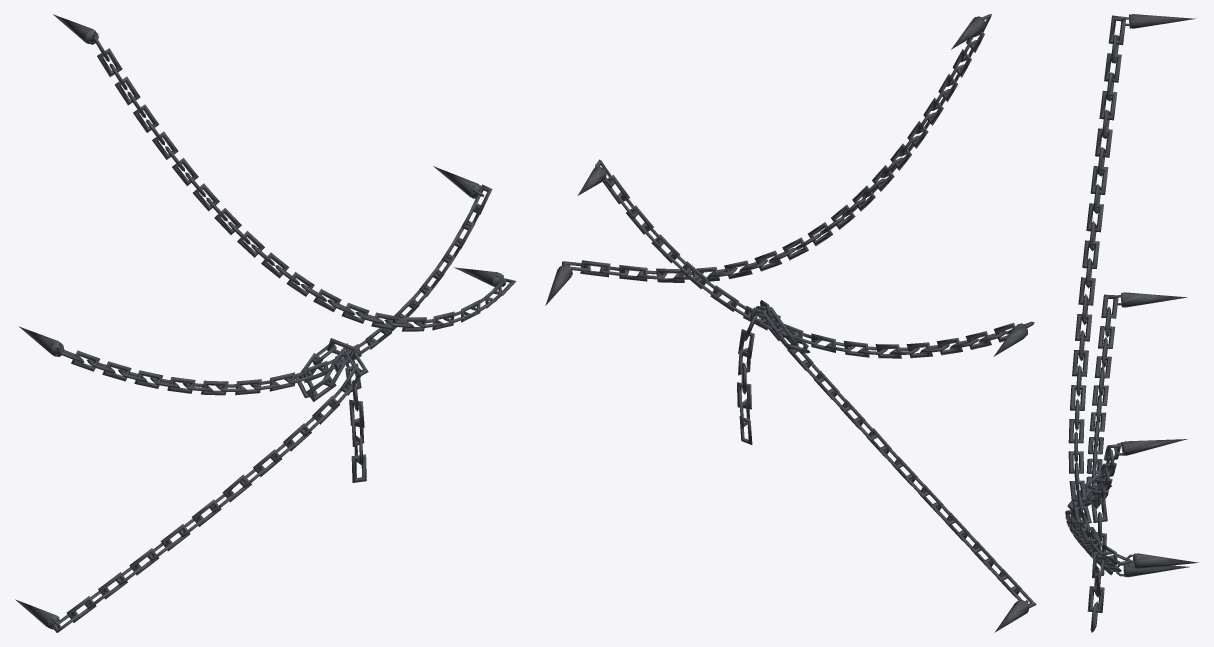
Rendered from SM_ENV_KNFRST_Gatechain_A.FBX.
3 views of the same model, side by side, from view 1: azimuth 30°, elevation 25°; view 2: azimuth 150°, elevation 25°; view 3: azimuth 270°, elevation 25° (orthographic).
Parts seen in each view (by area): view 1: SM_ENV_KNFRST_Gatechain_A; view 2: SM_ENV_KNFRST_Gatechain_A; view 3: SM_ENV_KNFRST_Gatechain_A.
Boxes of the visible parts, bbox=[...] form: SM_ENV_KNFRST_Gatechain_A: bbox=[15, 14, 515, 632]; SM_ENV_KNFRST_Gatechain_A: bbox=[545, 14, 1036, 632]; SM_ENV_KNFRST_Gatechain_A: bbox=[1065, 14, 1198, 632].
Bounding box in the file's own units: 706 × 847 × 177.
